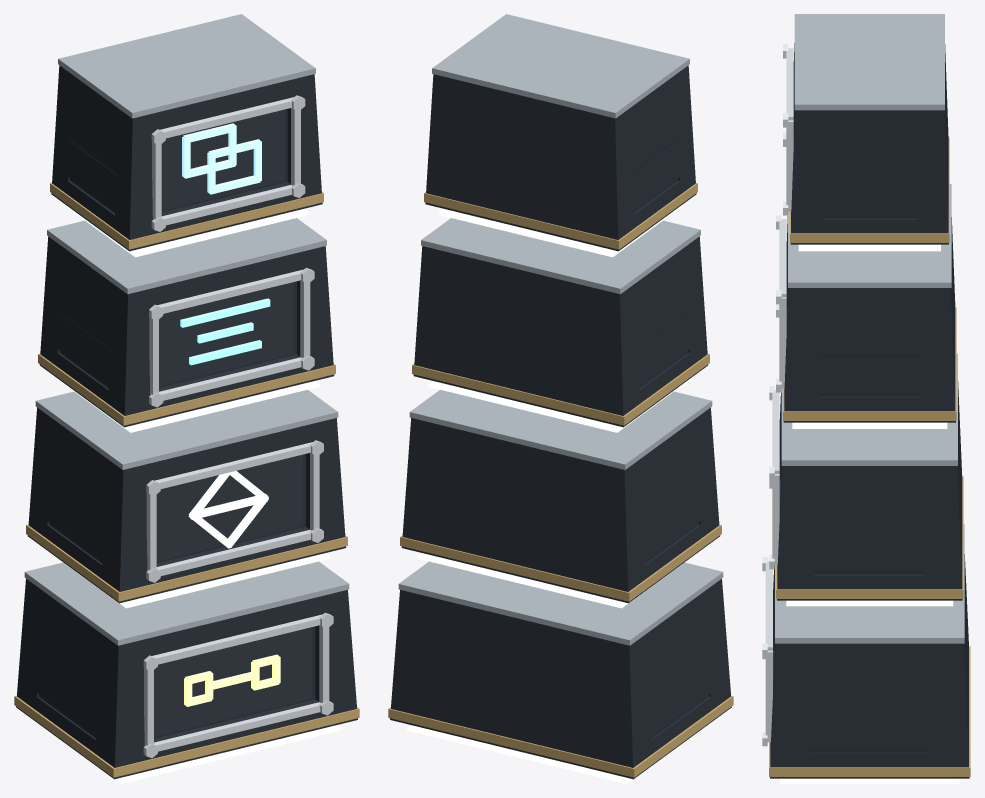
Rendered from solutions_monolith.glb.
The picture shows the model from 3 angles, left to right: view 1: azimuth 30°, elevation 25°; view 2: azimuth 150°, elevation 25°; view 3: azimuth 270°, elevation 25°; orthographic projection.
Parts seen in each view (by area): view 1: MONO / 04 body, MONO / 03 body, MONO / 02 body, MONO / 01 body, MONO / 01 plate top, MONO / 04 plate top, MONO / 03 plate top, MONO / 04 plate, MONO / 02 plate top, MONO / 03 plate, MONO / 02 plate, MONO / 01 plate (+27 smaller); view 2: MONO / 04 body, MONO / 03 body, MONO / 02 body, MONO / 01 body, MONO / 01 plate top, MONO / 04 plate top, MONO / 03 plate top, MONO / 02 plate top, MONO / 04 brass band, MONO / 03 brass band, MONO / 02 brass band, MONO / 01 brass band (+4 smaller); view 3: MONO / 04 body, MONO / 03 body, MONO / 02 body, MONO / 01 body, MONO / 01 plate top, MONO / 04 plate top, MONO / 03 plate top, MONO / 02 plate top, MONO / 04 brass band, MONO / 03 brass band, MONO / 02 brass band, MONO / 01 brass band (+12 smaller).
Part boxes in pixels (x1,y1,x2,y2): MONO / 04 body: (16, 579, 357, 779); MONO / 03 body: (27, 407, 346, 603); MONO / 02 body: (39, 236, 334, 427); MONO / 01 body: (51, 65, 322, 251); MONO / 01 plate top: (58, 14, 315, 118); MONO / 04 plate top: (24, 561, 349, 645); MONO / 03 plate top: (35, 389, 338, 469); MONO / 04 plate: (154, 627, 311, 736); MONO / 02 plate top: (47, 218, 326, 294); MONO / 03 plate: (156, 454, 302, 561); MONO / 02 plate: (159, 282, 293, 386); MONO / 01 plate: (161, 109, 284, 210); MONO / 04 body: (390, 579, 731, 779); MONO / 03 body: (401, 407, 720, 603); MONO / 02 body: (413, 236, 708, 427); MONO / 01 body: (425, 65, 696, 251); MONO / 01 plate top: (432, 14, 689, 118); MONO / 04 plate top: (398, 561, 723, 645); MONO / 03 plate top: (409, 389, 712, 469); MONO / 02 plate top: (421, 218, 700, 294); MONO / 04 brass band: (388, 695, 733, 777); MONO / 03 brass band: (400, 524, 721, 601); MONO / 02 brass band: (412, 354, 709, 425); MONO / 01 brass band: (424, 183, 697, 249); MONO / 04 body: (770, 554, 969, 778); MONO / 03 body: (777, 381, 962, 600); MONO / 02 body: (783, 216, 955, 422); MONO / 01 body: (790, 43, 948, 244); MONO / 01 plate top: (794, 14, 944, 110); MONO / 04 plate top: (775, 523, 964, 643); MONO / 03 plate top: (781, 353, 957, 465); MONO / 02 plate top: (788, 184, 951, 287); MONO / 04 brass band: (769, 646, 970, 776); MONO / 03 brass band: (776, 476, 963, 598); MONO / 02 brass band: (783, 307, 956, 420); MONO / 01 brass band: (790, 137, 949, 242).
Bounding box in the file's own units: 1.17 × 3.01 × 0.8471.
